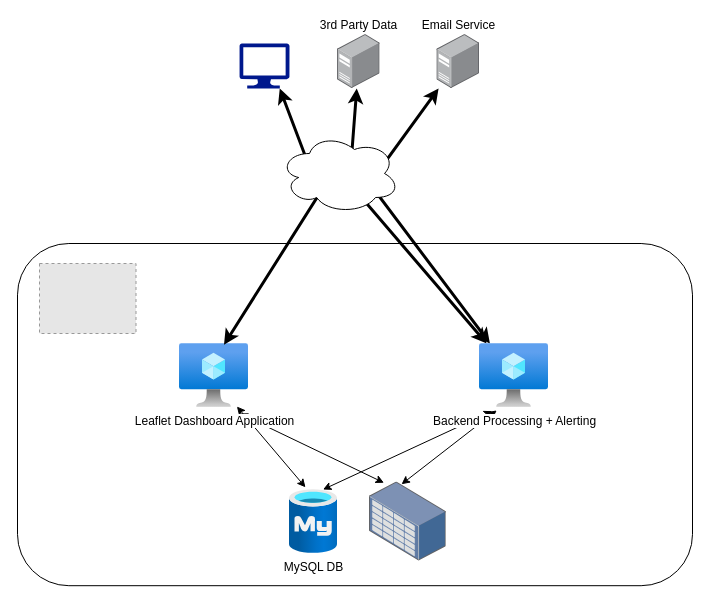
This 710x603 diagram has some shape labels left out. Grey dashed boxes stand in for pictures. The shapes that lost their labels are listed below. From the top down, each one's centre as x and y in pixels, then its label:
the point at 264,65: Dashboard User
the point at 339,173: Public Internet
the point at 407,521: File Storage
